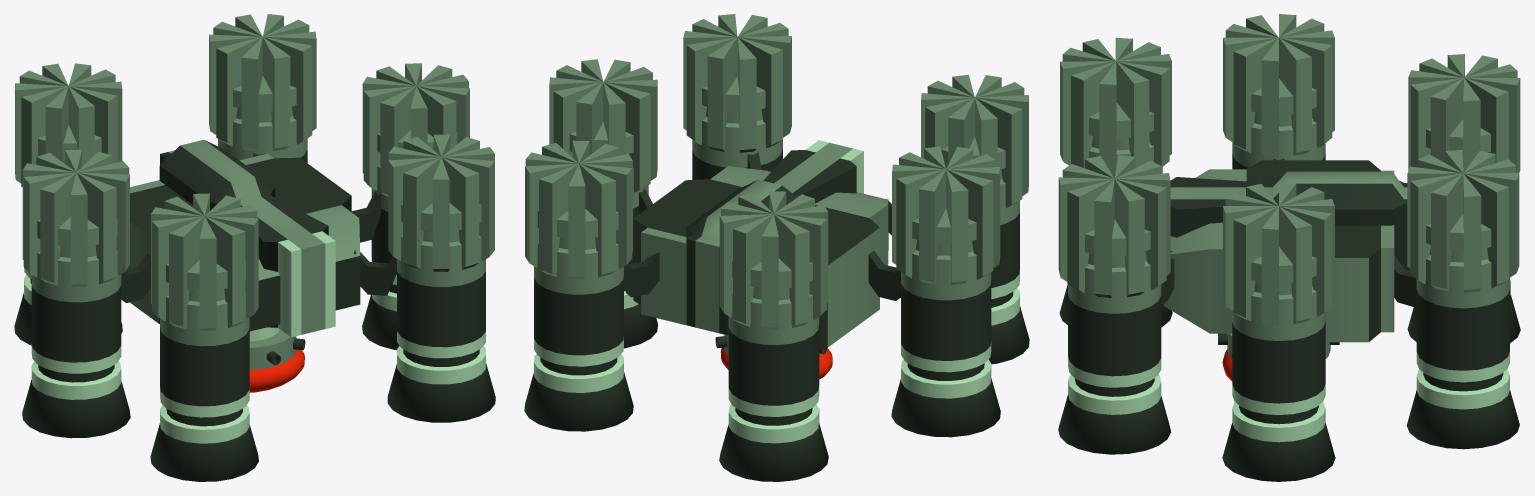
File: Boss.fbx
3 views of the same model, side by side, from view 1: azimuth 30°, elevation 25°; view 2: azimuth 150°, elevation 25°; view 3: azimuth 270°, elevation 25° (orthographic). The views are drawn at different scales.
Visible parts, largest first — view 1: pCube6, pCube8, pCube11, pCube10, pCube2, pCube7, pCube1, pCube9, pSphere1, pCylinder1; view 2: pCube6, pCube10, pCube9, pCube8, pCube1, pCube11, pCube7, pCube2; view 3: pCube10, pCube8, pCube7, pCube6, pCube1, pCube11, pCube9, pCube2.
Boxes of the visible parts, x1,y1,x2,y2 form: pCube6: (22, 149, 150, 438); pCube8: (354, 134, 495, 422); pCube11: (150, 193, 258, 481); pCube10: (209, 14, 316, 162); pCube2: (159, 139, 335, 337); pCube7: (351, 63, 469, 350); pCube1: (127, 153, 360, 331); pCube9: (14, 63, 122, 345); pSphere1: (249, 349, 304, 392); pCylinder1: (249, 329, 296, 369); pCube6: (868, 146, 1000, 437); pCube10: (524, 140, 659, 431); pCube9: (719, 191, 828, 481); pCube8: (683, 14, 791, 179); pCube1: (633, 166, 888, 347); pCube11: (886, 74, 1029, 364); pCube7: (549, 59, 657, 348); pCube2: (686, 140, 863, 334); pCube10: (1394, 149, 1519, 449); pCube8: (1058, 155, 1174, 454); pCube7: (1222, 182, 1335, 481); pCube6: (1223, 14, 1334, 169); pCube1: (1163, 160, 1394, 342); pCube11: (1059, 37, 1172, 327); pCube9: (1407, 54, 1520, 343); pCube2: (1170, 171, 1410, 270).
Size of the model in its own units: 38.15 by 21.36 by 33.91.
